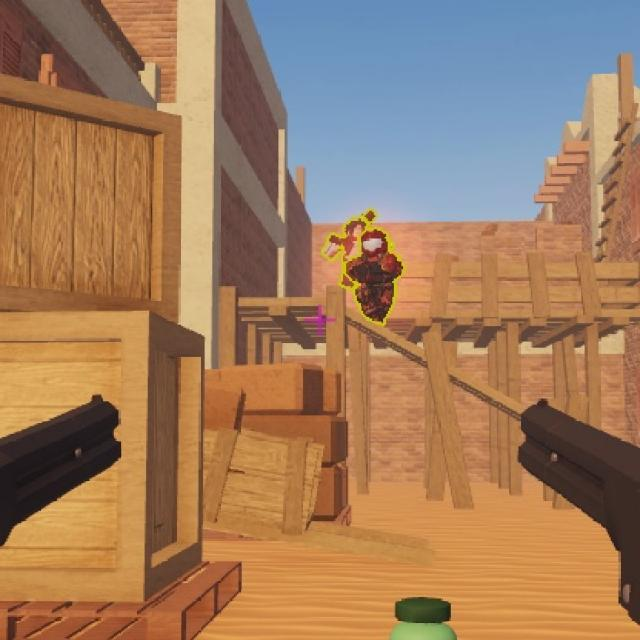player: (322, 212, 358, 284), (367, 229, 392, 311)
